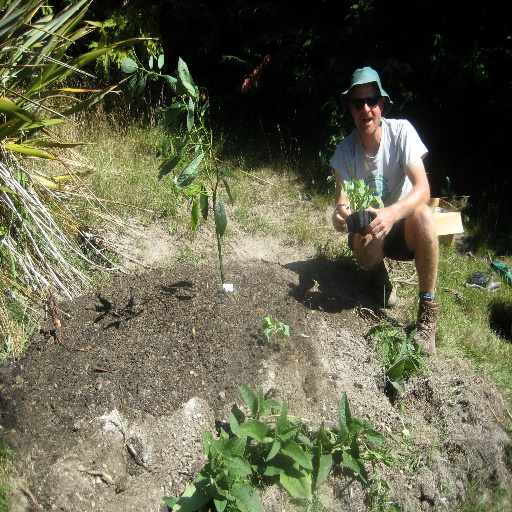hand: (364, 204, 394, 244), (331, 202, 351, 234)
